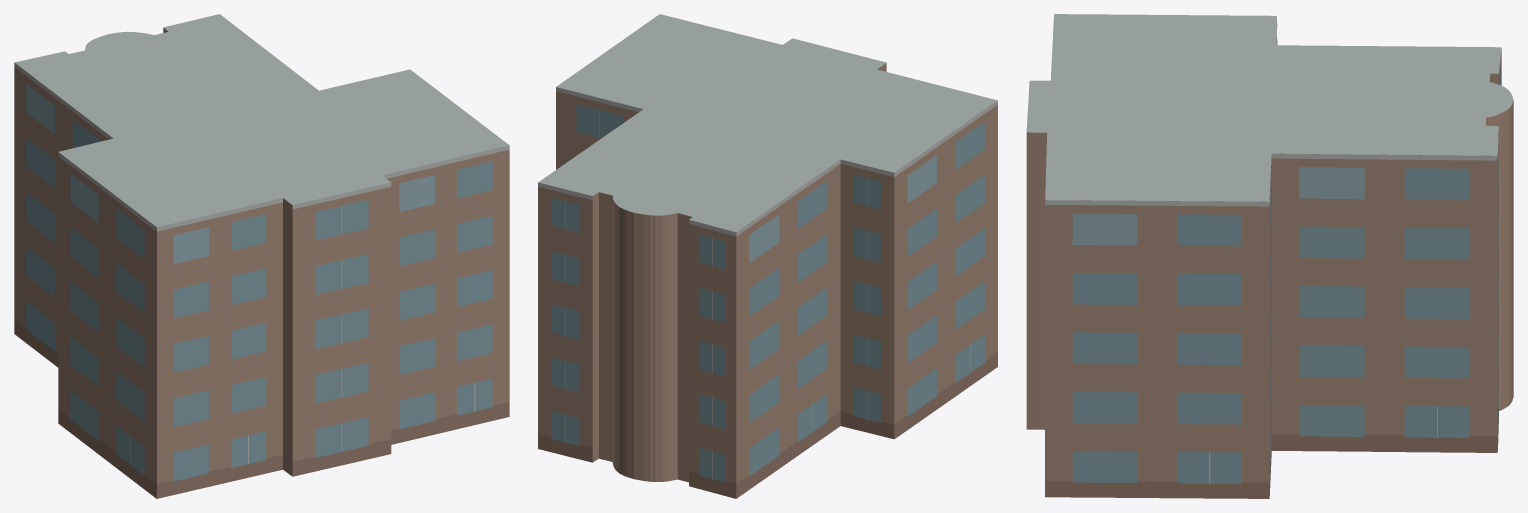
Rendered from survey-upis-33017020.glb.
The picture shows the model from 3 angles, left to right: view 1: azimuth 30°, elevation 25°; view 2: azimuth 150°, elevation 25°; view 3: azimuth 270°, elevation 25°; orthographic projection. The views are drawn at different scales.
Visible parts, largest first — view 1: survey-upis-33017020.tmp; view 2: survey-upis-33017020.tmp; view 3: survey-upis-33017020.tmp.
Part boxes in pixels (left/top/right/bottom): survey-upis-33017020.tmp: left=14, top=14, right=509, bottom=498; survey-upis-33017020.tmp: left=538, top=14, right=997, bottom=498; survey-upis-33017020.tmp: left=1026, top=14, right=1513, bottom=498.
Size of the model in its own units: 20.62 by 15.2 by 22.59.
